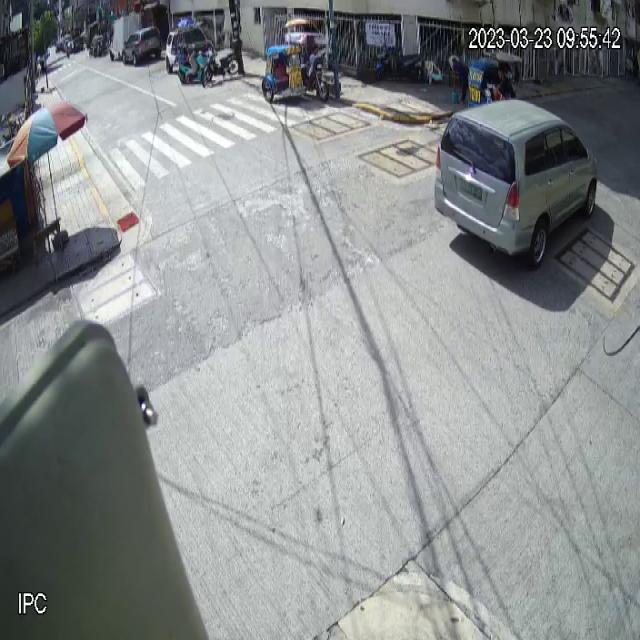Car: (434, 101, 598, 271)
Tricycle: (261, 31, 329, 103)
